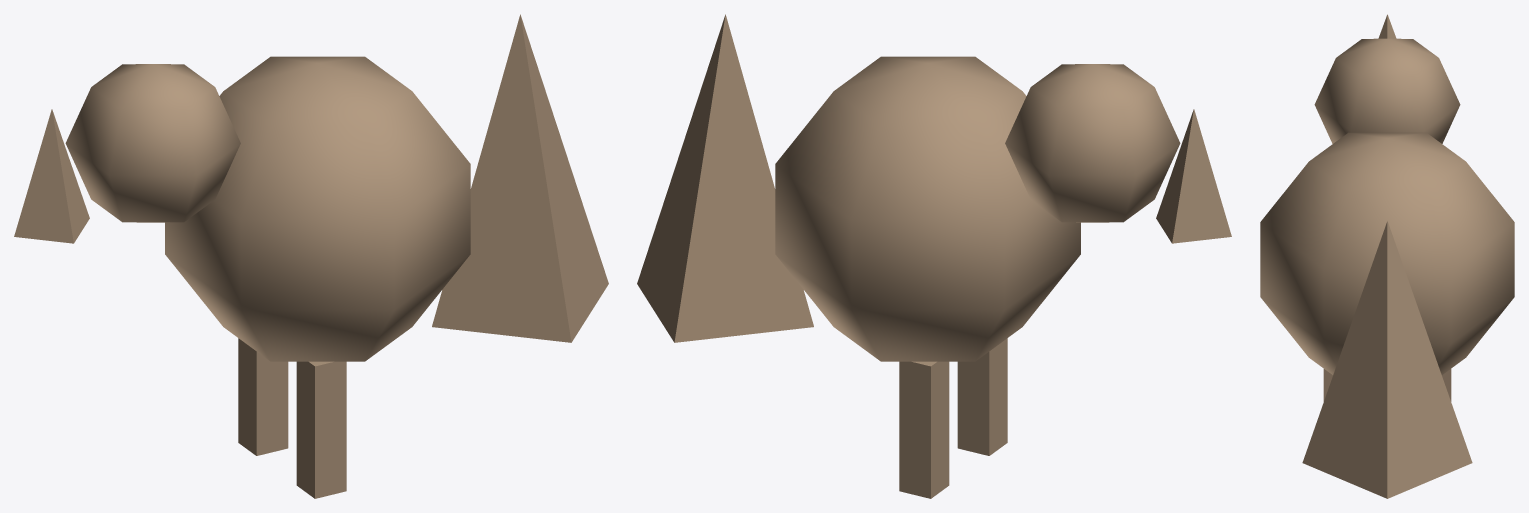
The model's file is crow.glb.
3 renders of one model, left to right at view 1: azimuth 30°, elevation 25°; view 2: azimuth 150°, elevation 25°; view 3: azimuth 270°, elevation 25°, orthographic. The views are drawn at different scales.
Visible parts, largest first — view 1: crow_hide-dark; view 2: crow_hide-dark; view 3: crow_hide-dark.
Part boxes in pixels (x1,y1,x2,y2): crow_hide-dark: (14, 14, 608, 498); crow_hide-dark: (637, 14, 1231, 498); crow_hide-dark: (1260, 14, 1514, 498).
Bounding box in the file's own units: 0.1567 × 0.11 × 0.0697.
